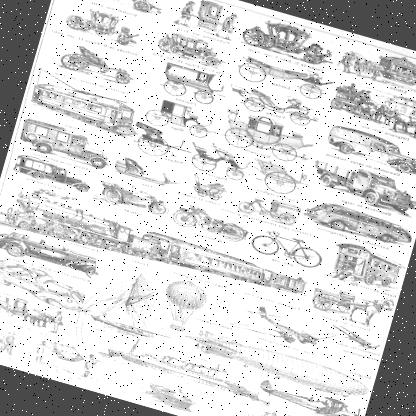Car: (0, 225, 98, 284), (0, 255, 89, 315)
